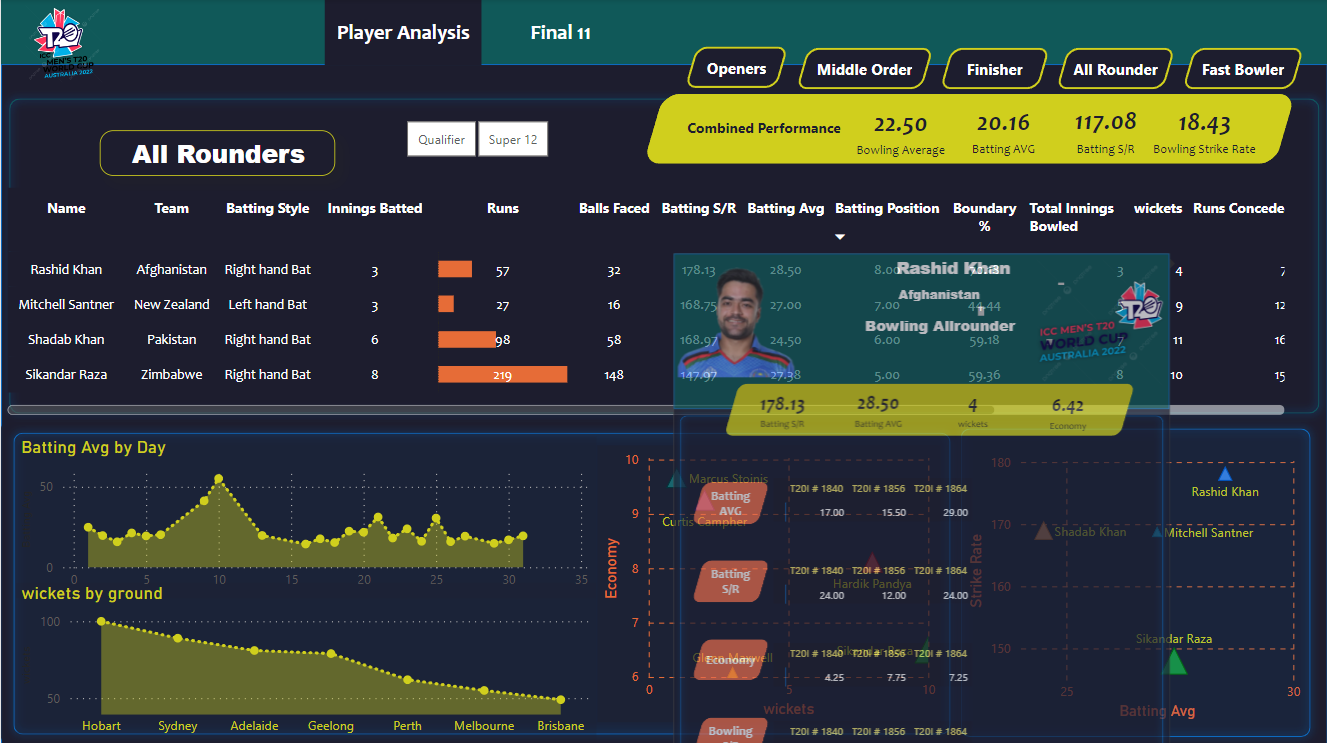

The dashboard page shown, as its layout file describes it:
{"tool":"powerbi","page":{"name":"ALL ROUNDERS","canvas":[1280,720],"ordinal":3},"visuals":[{"type":"shape","box":[0,62.5,1280,657.5],"z":0},{"type":"shape","box":[0,87.5,1280,320],"z":1000},{"type":"tableEx","fields":{"Values":["player_info.name","player_info.team","player_info.battingStyle","Key_Measures.Total Innings Batted","Key_Measures.Total Runs","Key_Measures.total balls faced","Key_Measures.Strike Rate","Key_Measures.Batting Avg","Key_Measures.Batting Position","Key_Measures.Boundary %","Key_Measures.Total Innings Bowled","Key_Measures.wickets"]},"box":[0,177.5,1243.8,228.8],"z":2000},{"type":"scatterChart","fields":{"Category":["player_info.name"],"X":["Key_Measures.Batting Avg"],"Y":["Key_Measures.Strike Rate"],"Series":["player_info.name"],"Size":["Key_Measures.Total Runs"]},"box":[927.5,432.5,331.2,267.5],"z":3000},{"type":"shape","box":[917.5,406.2,353.8,313.8],"z":4000},{"type":"shape","box":[620,91.2,628.8,67.5],"z":5000},{"type":"card","fields":{"Values":["Key_Measures.Batting Avg"]},"box":[897.5,91.6,140,67.5],"z":6000},{"type":"card","fields":{"Values":["Key_Measures.Strike Rate"]},"box":[1000,92.2,132.5,66.2],"z":7000},{"type":"shape","box":[637.5,102.5,196.2,43.8],"z":8000},{"type":"shape","box":[0,406.2,926.2,313.8],"z":9000},{"type":"actionButton","box":[660,46.2,100,40],"z":10000},{"type":"actionButton","box":[766.6,46.6,132.5,40],"z":11000},{"type":"actionButton","box":[905.6,46.9,106.2,40],"z":12000},{"type":"actionButton","box":[1018.4,47.2,115,40],"z":13000},{"type":"actionButton","box":[1140,47.5,117.5,40],"z":14000},{"type":"slicer","fields":{"Values":["match_summary.Stage"]},"box":[365,111.2,186.2,47.5],"z":15000},{"type":"areaChart","fields":{"Y":["Key_Measures.Batting Avg"],"Category":["match_summary.matchDate.Variation.Date Hierarchy.Day"]},"box":[15,422.5,560,156.2],"z":16000},{"type":"image","box":[0,0,122.5,87.5],"z":17000},{"type":"textbox","title":"All Rounders","box":[95,126.2,227.5,43.8],"z":18000},{"type":"actionButton","title":"Player Analysis","box":[312.5,0,151.2,63.8],"z":19000},{"type":"actionButton","title":"Player Analysis","box":[463.8,0,151.2,62.5],"z":20000},{"type":"scatterChart","fields":{"Category":["player_info.name"],"Series":["player_info.name"],"Size":["Key_Measures.Total Runs"],"X":["Key_Measures.wickets"],"Y":["Key_Measures.Economy"]},"box":[575,430,331.2,267.5],"z":21000},{"type":"areaChart","fields":{"Y":["Key_Measures.wickets"],"Category":["match_summary.ground"]},"box":[15,563.8,560,156.2],"z":22000},{"type":"card","fields":{"Values":["Key_Measures.Bowling Average"]},"box":[802.5,92.5,132.5,67.5],"z":23000},{"type":"card","fields":{"Values":["Key_Measures.Bowling Strike Rate"]},"box":[1095,91.2,132.5,67.5],"z":24000}]}

Visuals, with their boxes in screenshot pixels (x1, y1, x2, y2), scaled from the page's 1280x720 canvas onto the 1327x743 screenshot:
shape: detection(0, 64, 1326, 742)
shape: detection(0, 90, 1326, 421)
tableEx - player_info.name x player_info.team: detection(0, 183, 1289, 419)
scatterChart - player_info.name x Key_Measures.Batting Avg: detection(962, 446, 1305, 722)
shape: detection(951, 419, 1318, 742)
shape: detection(643, 94, 1295, 164)
card - Key_Measures.Batting Avg: detection(930, 95, 1076, 164)
card - Key_Measures.Strike Rate: detection(1037, 95, 1174, 163)
shape: detection(661, 106, 864, 151)
shape: detection(0, 419, 960, 742)
actionButton: detection(684, 48, 788, 89)
actionButton: detection(795, 48, 932, 89)
actionButton: detection(939, 48, 1049, 90)
actionButton: detection(1056, 49, 1175, 90)
actionButton: detection(1182, 49, 1304, 90)
slicer - match_summary.Stage: detection(378, 115, 571, 164)
areaChart - Key_Measures.Batting Avg x match_summary.matchDate.Variation.Date Hierarchy.Day: detection(16, 436, 596, 597)
image: detection(0, 0, 127, 90)
"All Rounders" textbox: detection(98, 130, 334, 175)
"Player Analysis" actionButton: detection(324, 0, 481, 66)
"Player Analysis" actionButton: detection(481, 0, 638, 64)
scatterChart - player_info.name x player_info.name: detection(596, 444, 939, 720)
areaChart - Key_Measures.wickets x match_summary.ground: detection(16, 582, 596, 742)
card - Key_Measures.Bowling Average: detection(832, 95, 969, 165)
card - Key_Measures.Bowling Strike Rate: detection(1135, 94, 1273, 164)
